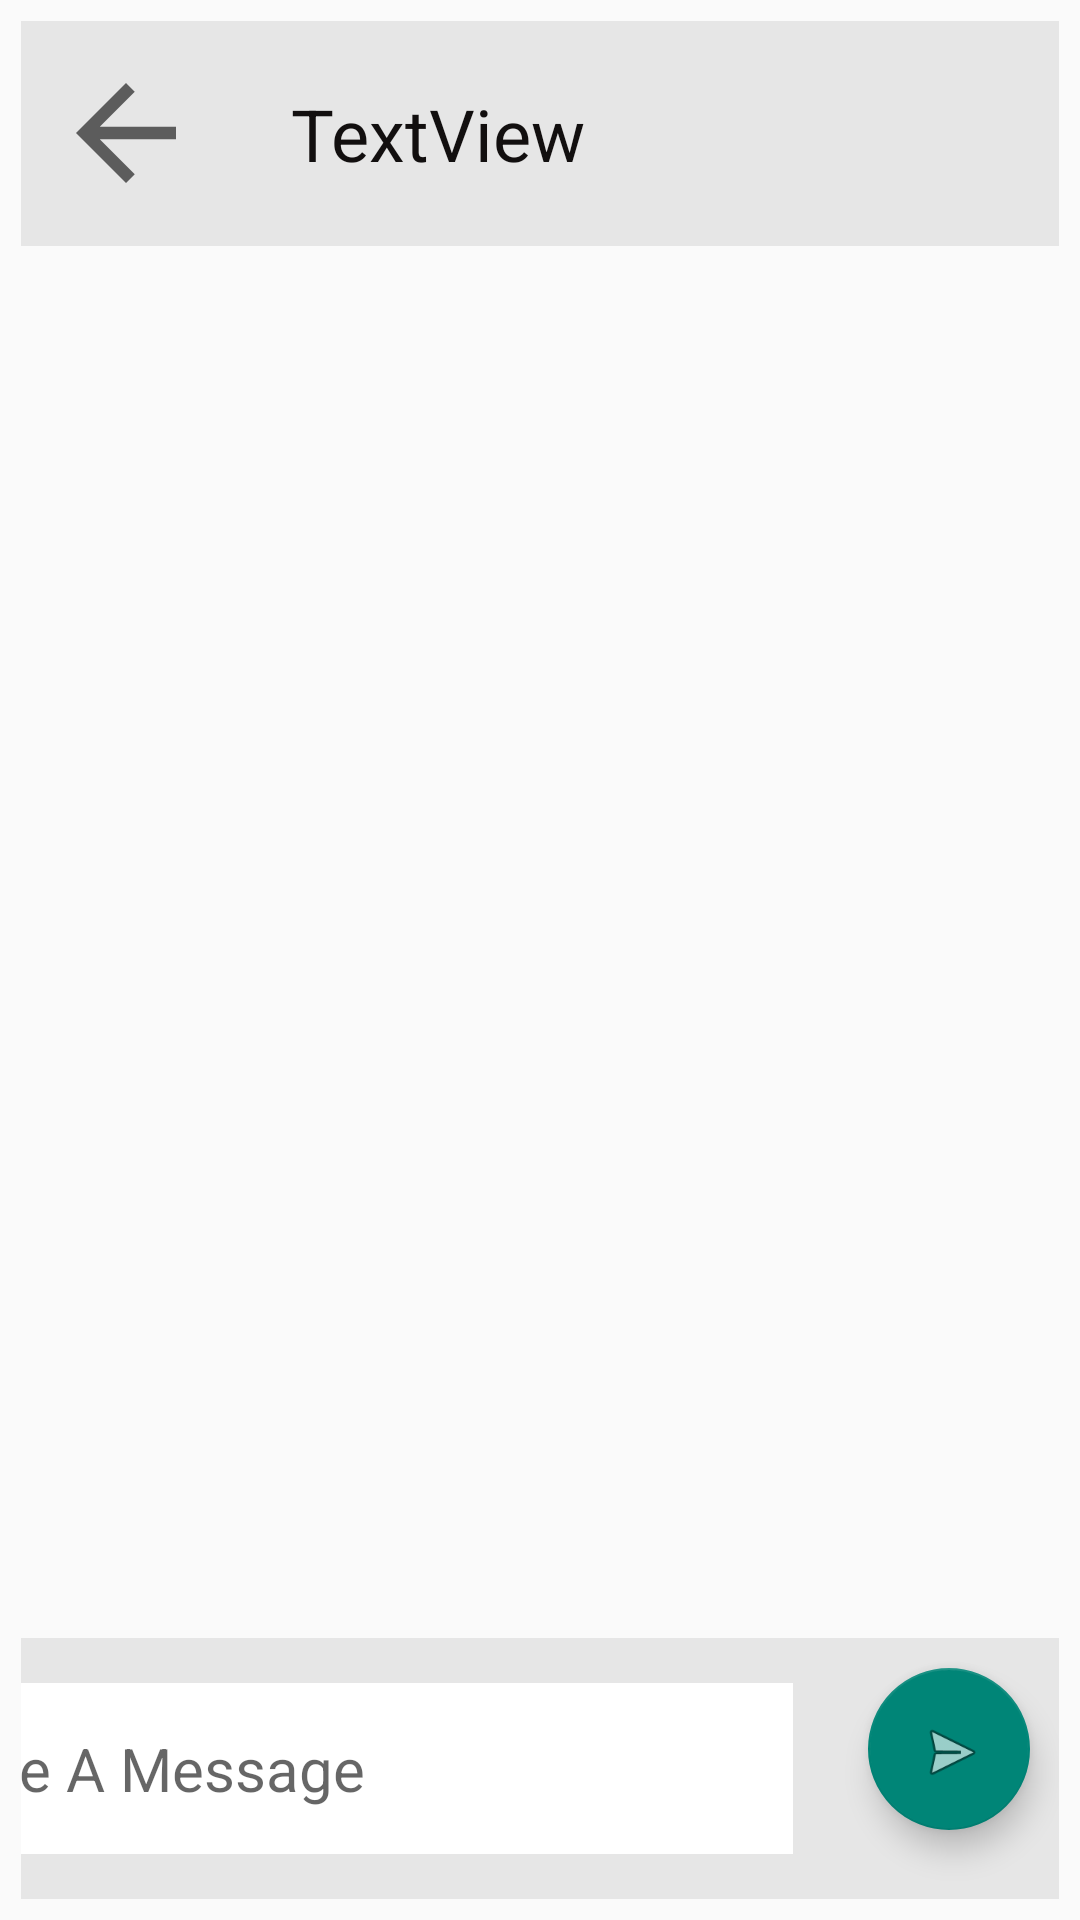

Locate icon controls on the screen. Image size 1080 × 1920, boxes as box=[x1, y1, x2, y2].
send: box=[868, 1668, 1030, 1830]
